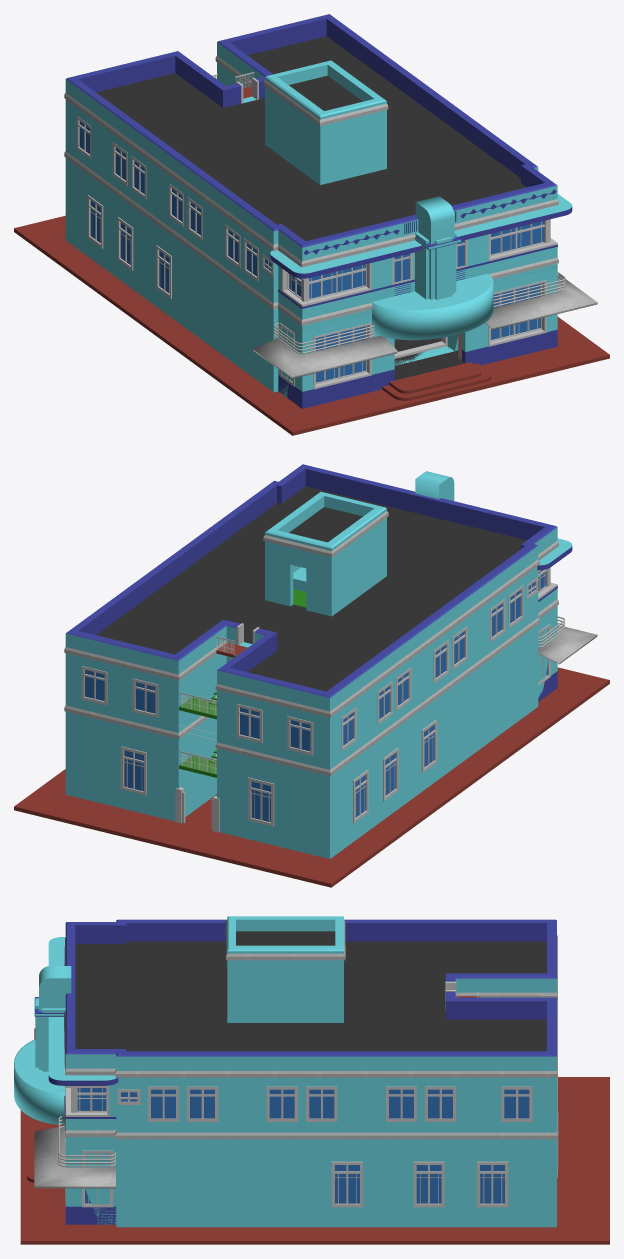
Rendered from Hotel_1.fbx.
3 views of the same model, one above another, from view 1: azimuth 30°, elevation 25°; view 2: azimuth 150°, elevation 25°; view 3: azimuth 270°, elevation 25° (orthographic). The views are drawn at different scales.
Visible parts, largest first — view 1: SM_Building_Roof_Block, SM_Building_Ground_Floor_Block_inside, SM_Building_Suites_Block, SM_Building_Ground_Floor_Block_var, SM_Tent_Blok, SM_Entrance_Sign_Block, SM_Entrance_Sign_Tall_Block, SM_Entrance_Sign_Tall_Cap_Block, SM_Building_Ground_Floor_Block.001; view 2: SM_Building_Roof_Block, SM_Building_Ground_Floor_Block_inside, SM_Building_Suites_Block, SM_Building_Ground_Floor_Block_var, SM_Tent_Blok, SM_Entrance_Sign_Tall_Cap_Block; view 3: SM_Building_Roof_Block, SM_Building_Ground_Floor_Block_inside, SM_Building_Ground_Floor_Block_var, SM_Building_Suites_Block, SM_Tent_Blok, SM_Entrance_Sign_Block, SM_Entrance_Sign_Tall_Cap_Block, SM_Entrance_Sign_Tall_Block.
Boxes of the visible parts, <box> form: SM_Building_Roof_Block: <box>64,14,558,267</box>; SM_Building_Ground_Floor_Block_inside: <box>14,158,609,435</box>; SM_Building_Suites_Block: <box>64,62,572,325</box>; SM_Building_Ground_Floor_Block_var: <box>14,159,609,435</box>; SM_Tent_Blok: <box>253,274,597,378</box>; SM_Entrance_Sign_Block: <box>372,273,493,340</box>; SM_Entrance_Sign_Tall_Block: <box>415,243,456,299</box>; SM_Entrance_Sign_Tall_Cap_Block: <box>415,196,460,249</box>; SM_Building_Ground_Floor_Block.001: <box>394,333,464,380</box>; SM_Building_Roof_Block: <box>64,464,558,717</box>; SM_Building_Ground_Floor_Block_inside: <box>14,606,609,887</box>; SM_Building_Suites_Block: <box>64,538,572,775</box>; SM_Building_Ground_Floor_Block_var: <box>14,606,609,886</box>; SM_Tent_Blok: <box>538,625,597,664</box>; SM_Entrance_Sign_Tall_Cap_Block: <box>415,471,454,500</box>; SM_Building_Roof_Block: <box>64,916,557,1077</box>; SM_Building_Ground_Floor_Block_inside: <box>20,1087,609,1244</box>; SM_Building_Ground_Floor_Block_var: <box>20,1077,609,1244</box>; SM_Building_Suites_Block: <box>48,937,557,1139</box>; SM_Tent_Blok: <box>34,1028,115,1188</box>; SM_Entrance_Sign_Block: <box>14,1039,65,1124</box>; SM_Entrance_Sign_Tall_Cap_Block: <box>34,966,71,1016</box>; SM_Entrance_Sign_Tall_Block: <box>35,1017,48,1071</box>.
Size of the model in its own units: 1989 by 1435 by 3058.
